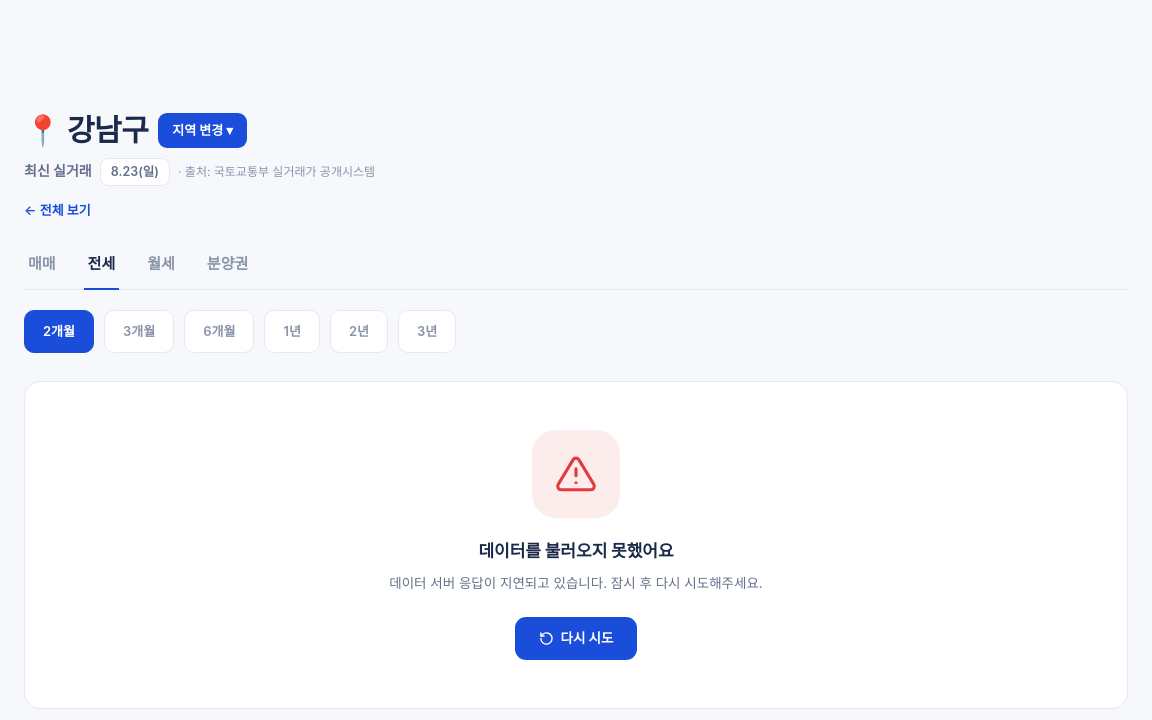
Scenario: TransactionsClient retry behavior › 최초 전월세 요청 실패 후 같은 조건으로 다시 조회한다
The image size is (1152, 720).
Expected: the message "데이터를 불러오지 못했어요 데이터 서버 응답이 지연되고 있습니다. 잠시 후 다시 시도해주세요. 다시 시도" is shown, [24,381,1128,710]
Click the button "다시 시도". click: click(576, 639)
box: [514,617,637,660]
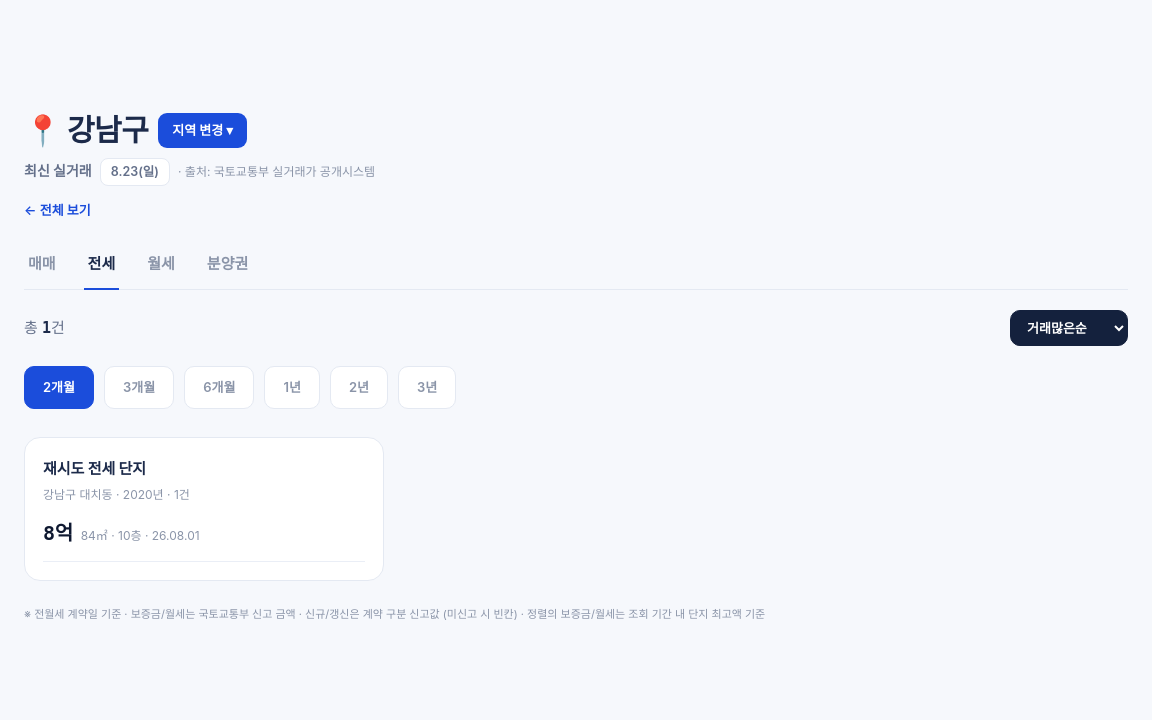
Result: the text "재시도 전세 단지" is shown at [43,459,146,478]
